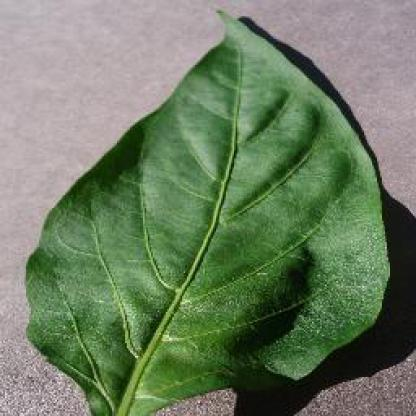good leaf: (13, 10, 413, 398)
